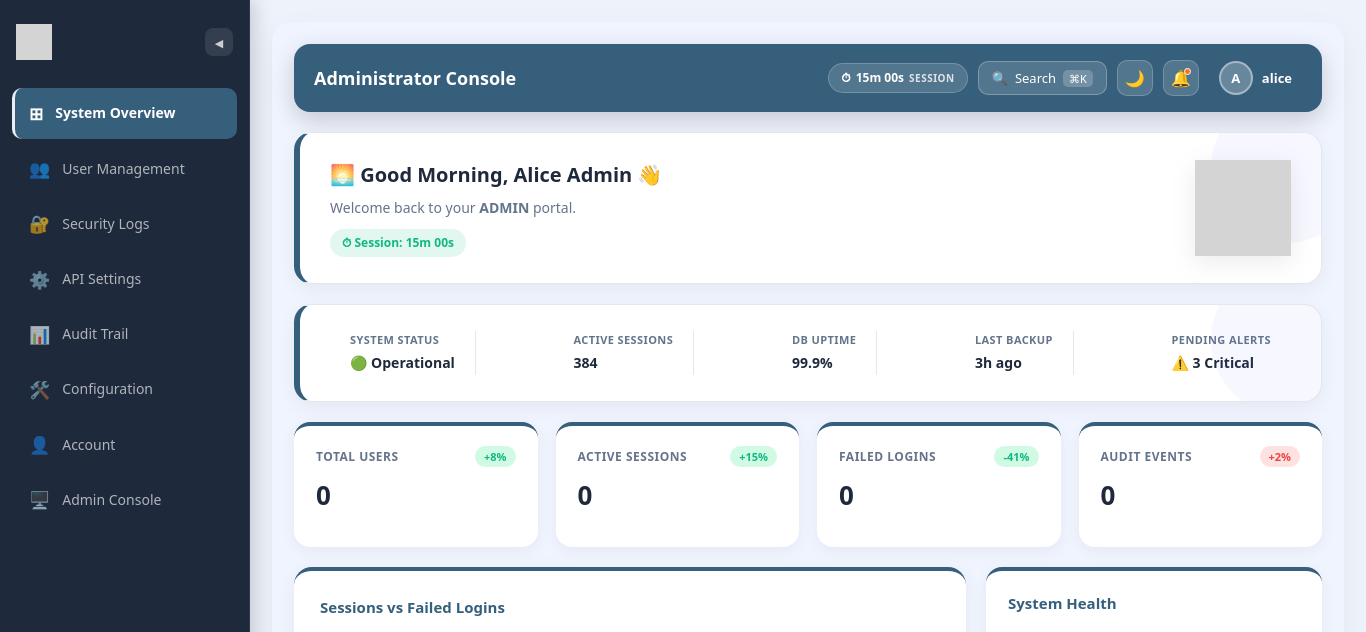
Test case: Dark mode toggle › cycles between 🌙 and ☀️ on each click
What coordinates should you click on to do the following:
click the button titled "Toggle dark mode"
I would click on:
 (1135, 78)
Its box is [1117,60,1153,96].
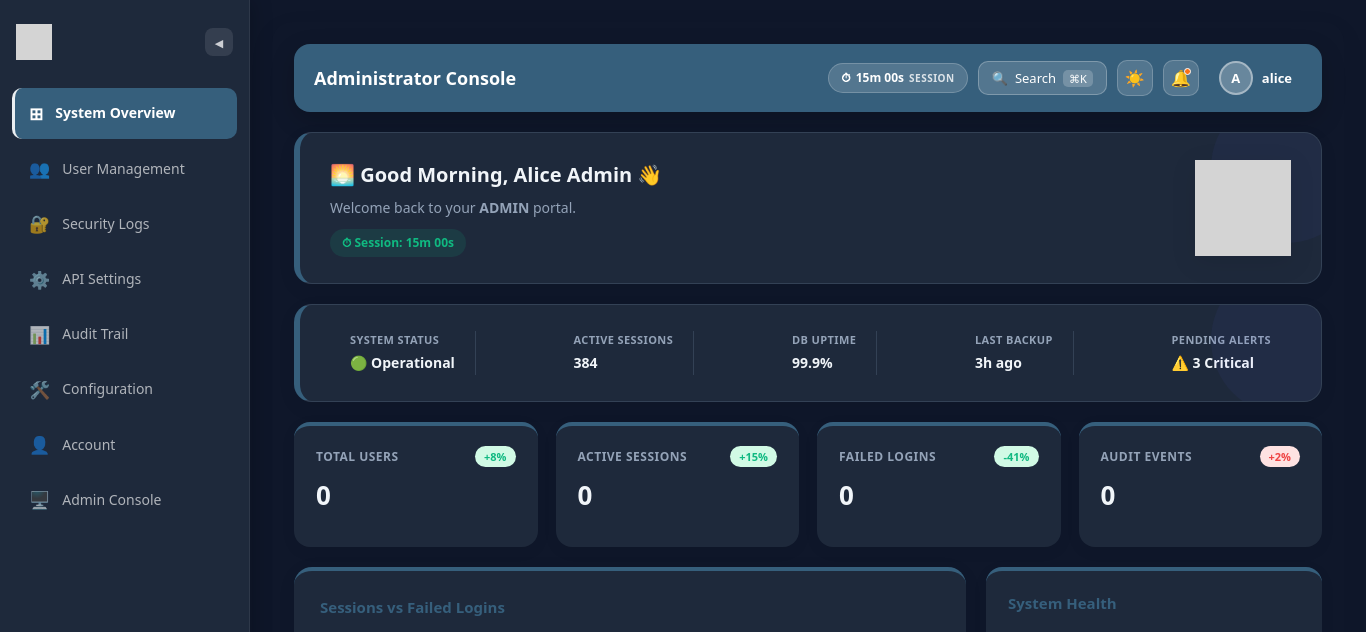
Result: the button titled "Toggle dark mode" reads "☀️"
What coordinates should you click on to do the following:
click the button titled "Toggle dark mode"
I would click on:
 (1135, 78)
Its box is [1117,60,1153,96].
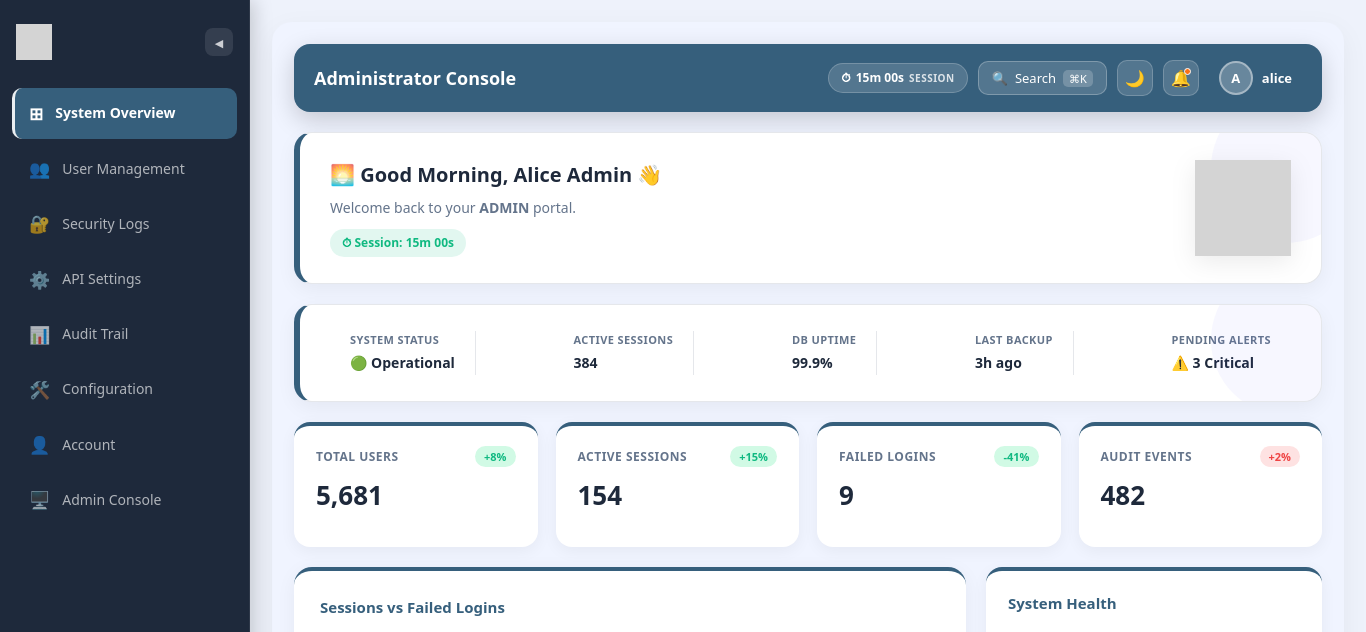
Result: the button titled "Toggle dark mode" reads "🌙" at [1117,60,1153,96]
